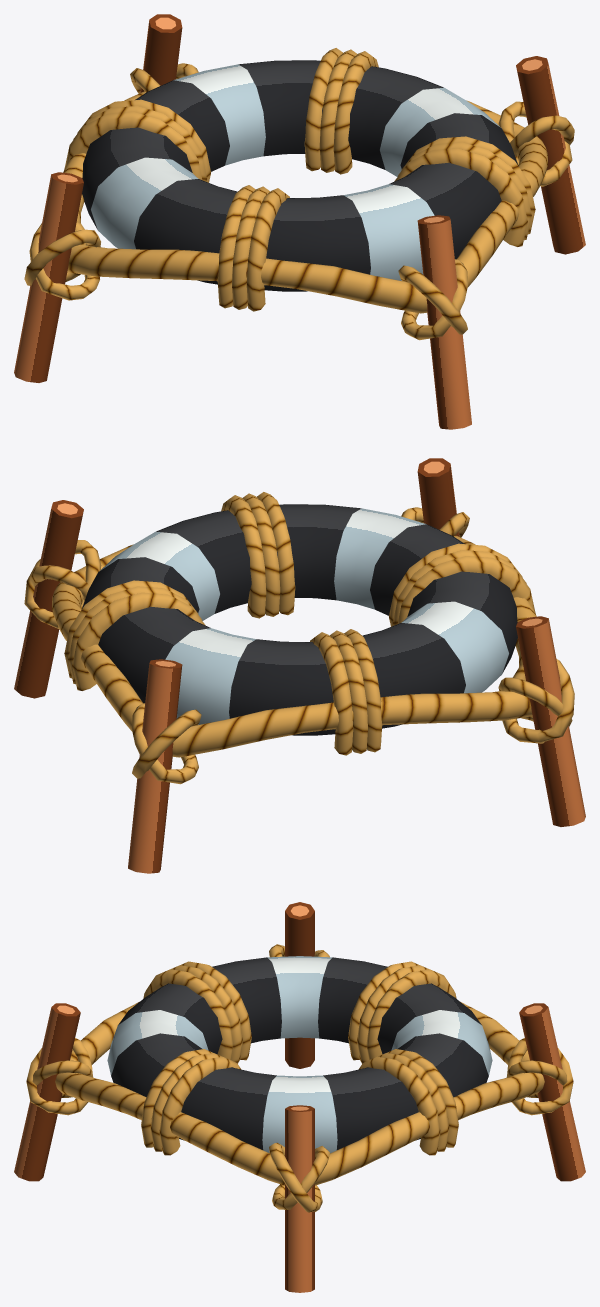
Rendered from hole2.fbx.
3 renders of one model, top to bottom at view 1: azimuth 30°, elevation 25°; view 2: azimuth 150°, elevation 25°; view 3: azimuth 270°, elevation 25°, orthographic. The views are drawn at different scales.
Visible parts, largest first — view 1: SpinableHole_1.003; view 2: SpinableHole_1.003; view 3: SpinableHole_1.003.
Part boxes in pixels (x1,y1,x2,y2): SpinableHole_1.003: (14, 14, 585, 429); SpinableHole_1.003: (14, 458, 585, 873); SpinableHole_1.003: (14, 902, 585, 1292).
Size of the model in its own units: 149 by 48.85 by 149.
